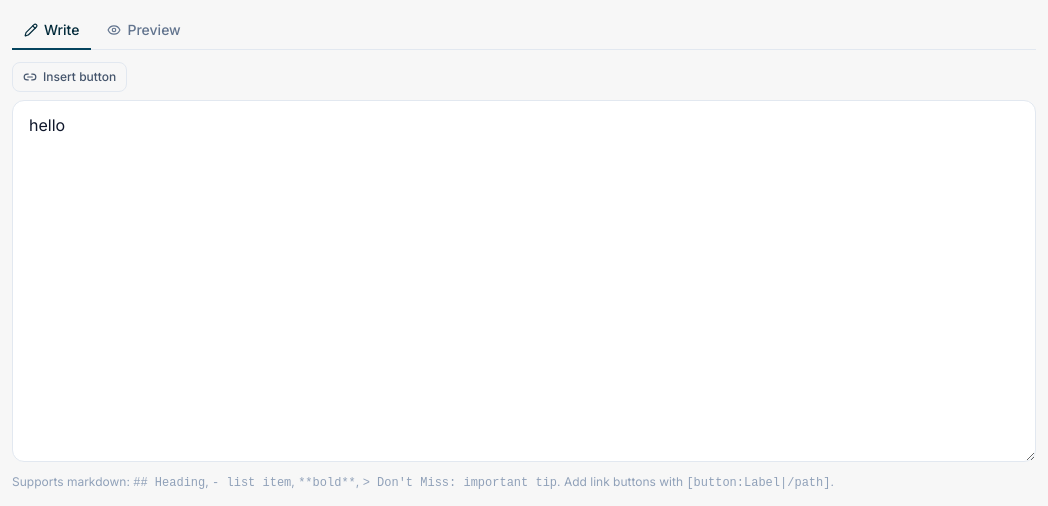
Test: BlogContentEditor › shows preview footer text
What coordinates should you click on to do the following:
click the button "Preview"
I would click on:
 (144, 31)
Its box is top-left (96, 12), bottom-right (193, 50).
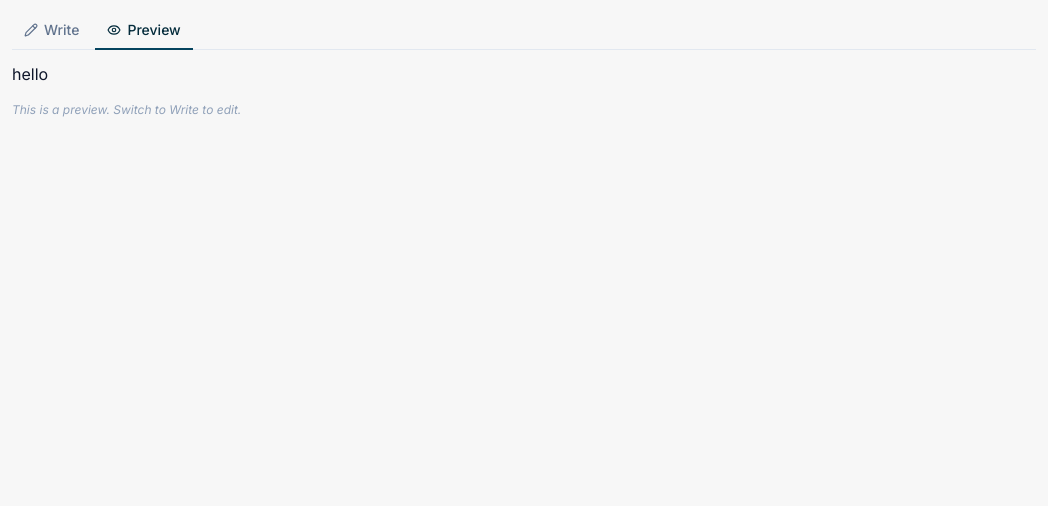
Expected: the text "This is a preview. Switch to Write to edit." is shown, top-left (12, 102), bottom-right (241, 117)
